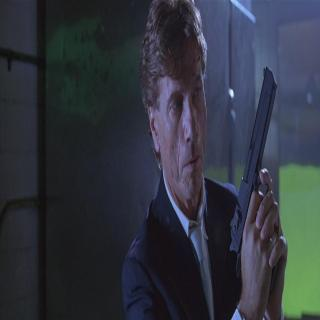gun: (227, 63, 285, 301)
